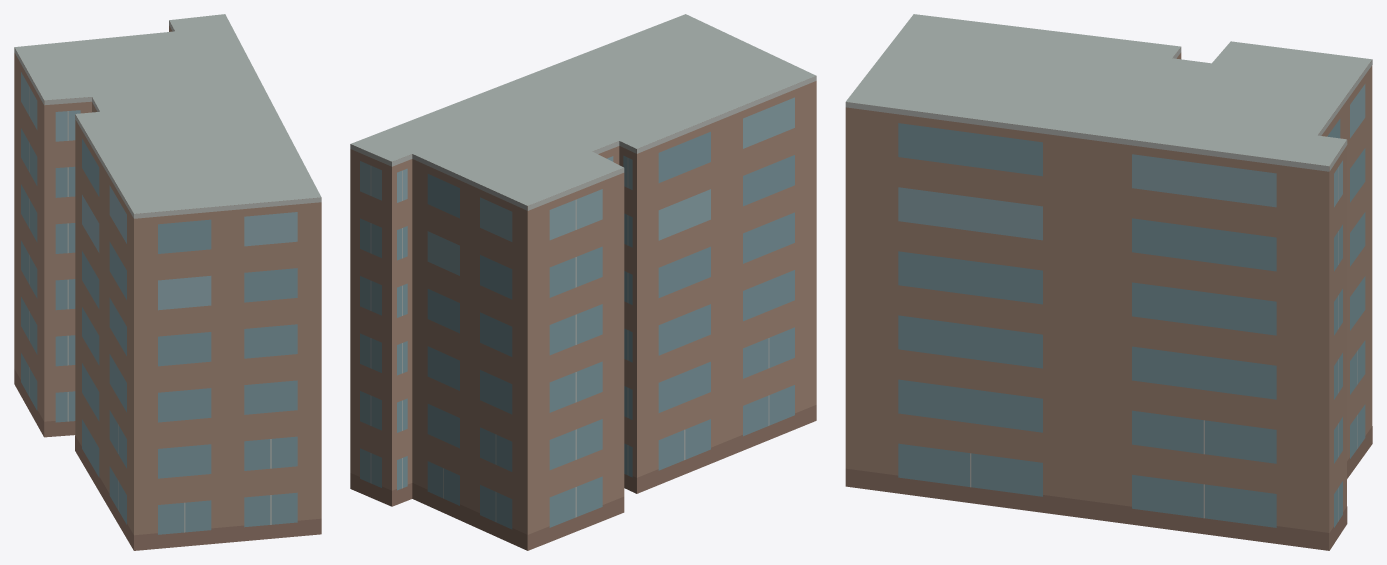
Rendered from survey-upis-33025066.glb.
3 views of the same model, side by side, from view 1: azimuth 30°, elevation 25°; view 2: azimuth 150°, elevation 25°; view 3: azimuth 270°, elevation 25° (orthographic). The views are drawn at different scales.
Parts seen in each view (by area): view 1: survey-upis-33025066.tmp; view 2: survey-upis-33025066.tmp; view 3: survey-upis-33025066.tmp.
Boxes of the visible parts, x1=… form: survey-upis-33025066.tmp: x1=14, y1=14, x2=321, y2=550; survey-upis-33025066.tmp: x1=350, y1=14, x2=816, y2=550; survey-upis-33025066.tmp: x1=845, y1=14, x2=1372, y2=550.
Size of the model in its own units: 14.44 by 17 by 21.12.
